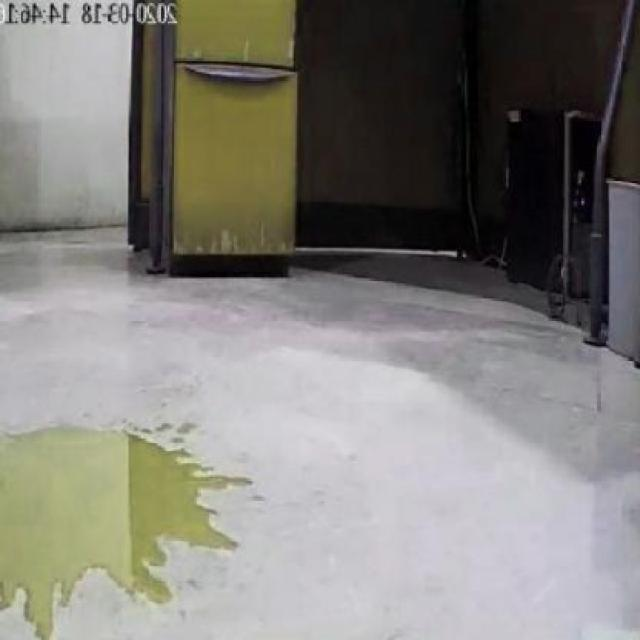spillage: (0, 428, 239, 640)
